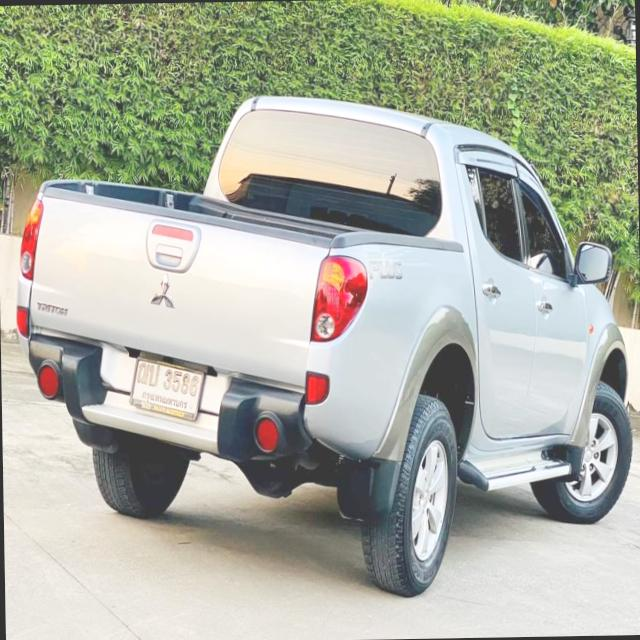license_plate: (128, 349, 209, 428)
